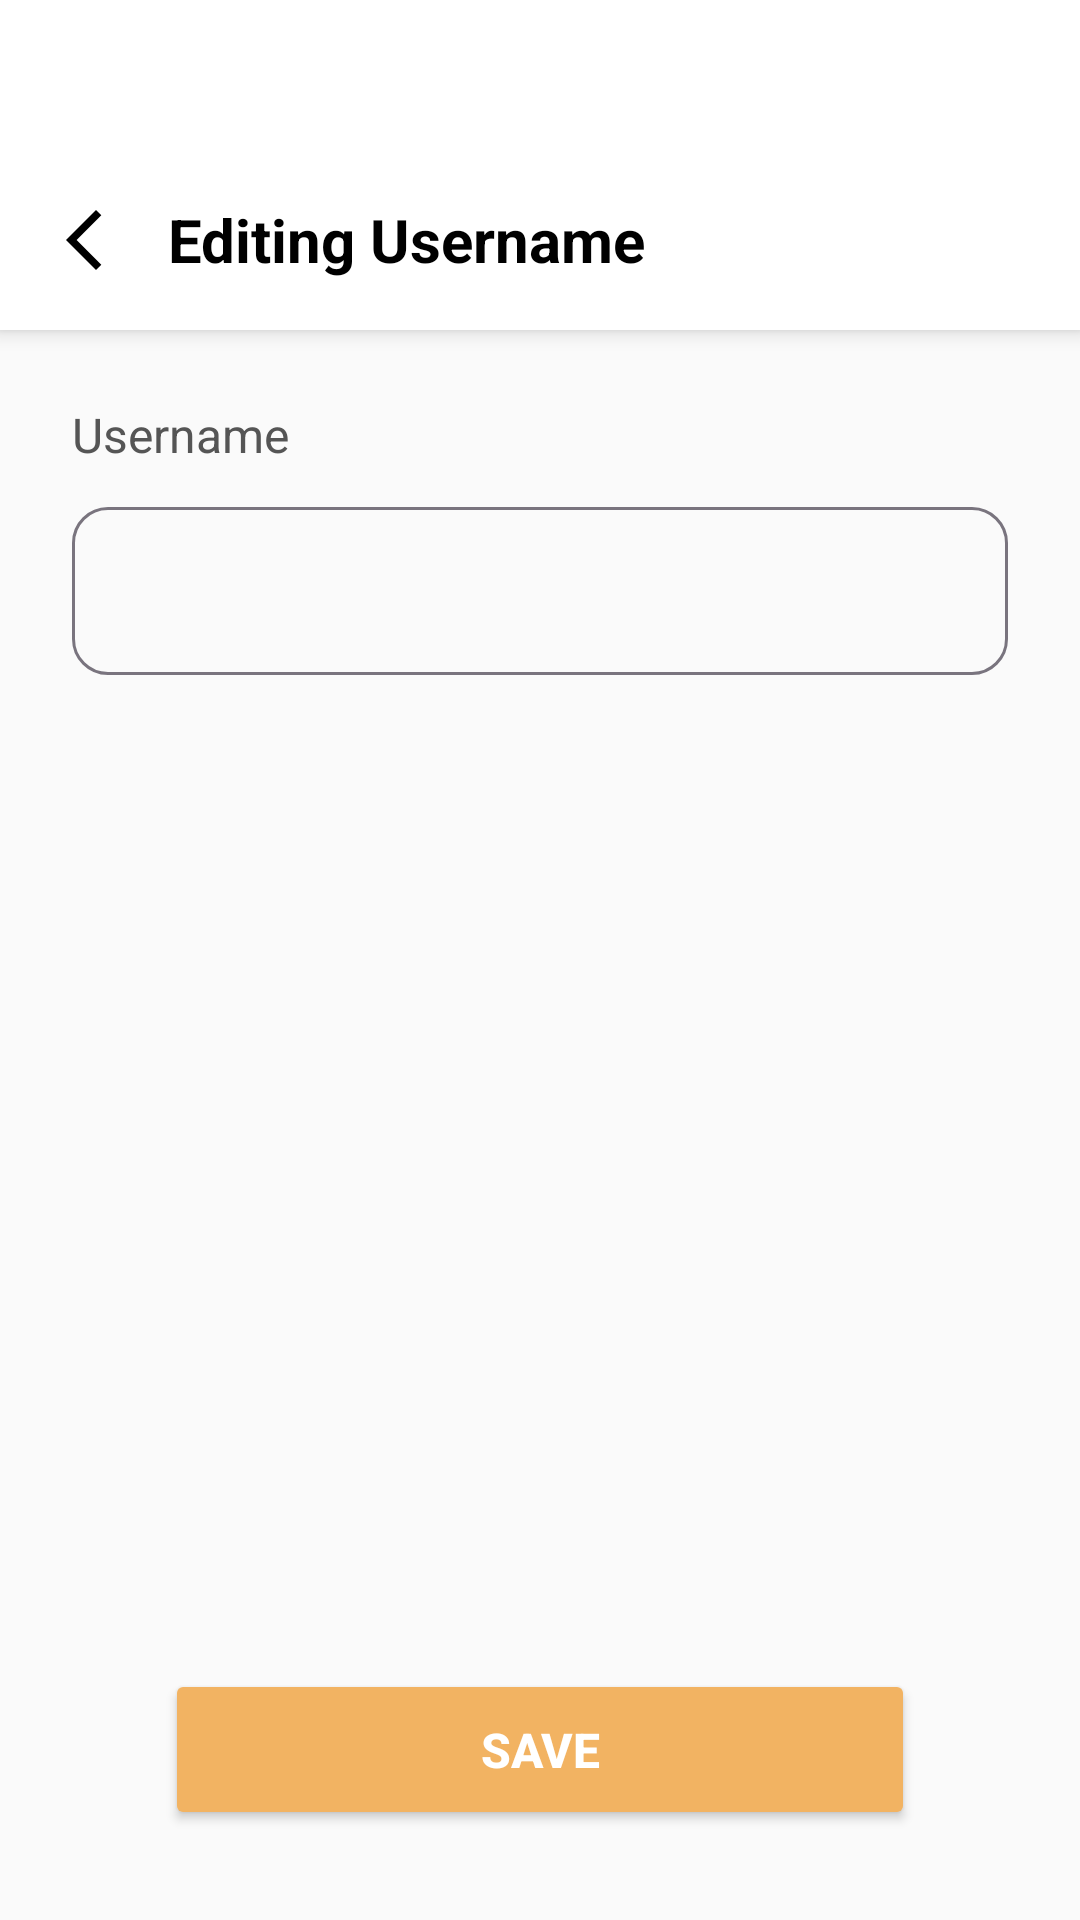

Screen size 1080*1920. Icon name, then its center in pixels as [x,y]:
Back: [83,240]
